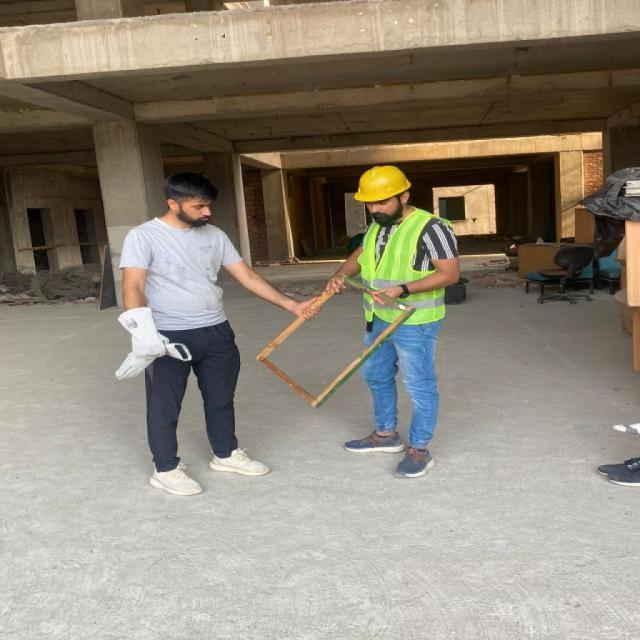Gloves-Detection: (114, 298, 182, 388)
